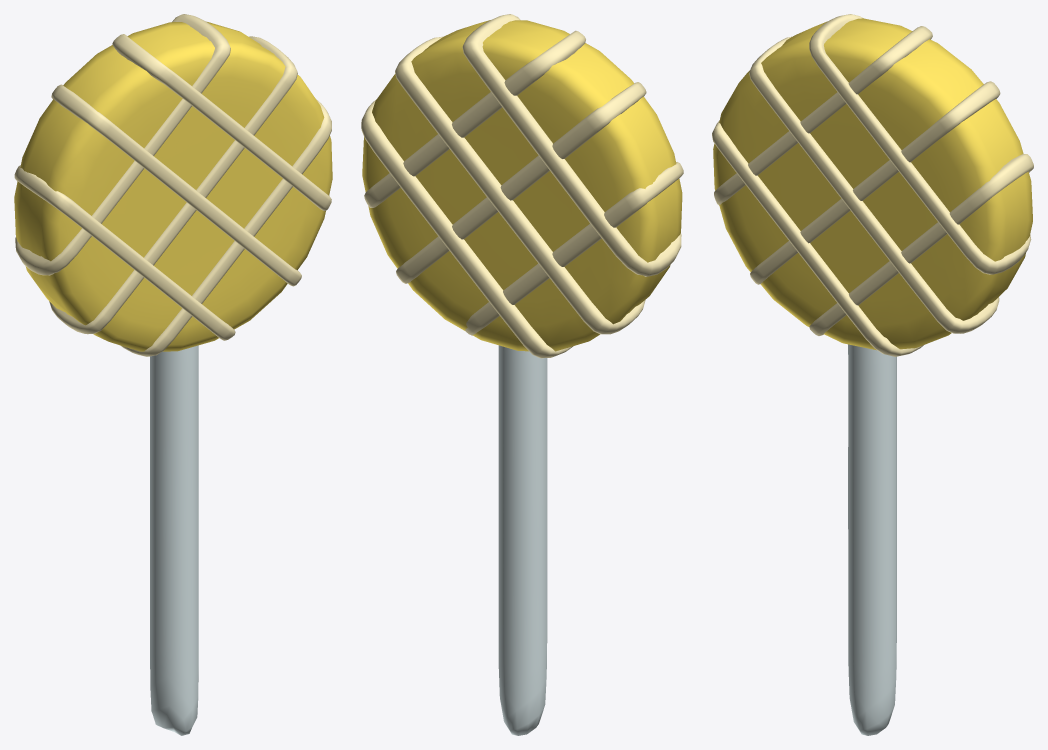
Rendered from Lollipop_B_05.fbx.
The picture shows the model from 3 angles, left to right: view 1: azimuth 30°, elevation 25°; view 2: azimuth 150°, elevation 25°; view 3: azimuth 330°, elevation 25°; orthographic projection.
Visible parts, largest first — view 1: Lollipop_B_05_LOD0; view 2: Lollipop_B_05_LOD0; view 3: Lollipop_B_05_LOD0.
Boxes of the visible parts, x1,y1,x2,y2 form: Lollipop_B_05_LOD0: (14, 14, 332, 735); Lollipop_B_05_LOD0: (361, 14, 683, 735); Lollipop_B_05_LOD0: (712, 14, 1033, 735).
Size of what is drawn, in the model's own units: 507 by 1156 by 148.
